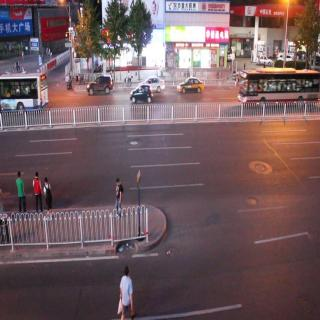BigCar: (239, 70, 319, 102), (0, 74, 48, 109)
Car: (87, 74, 115, 98), (177, 76, 204, 95), (129, 85, 153, 105), (142, 74, 166, 94), (255, 50, 272, 67)
